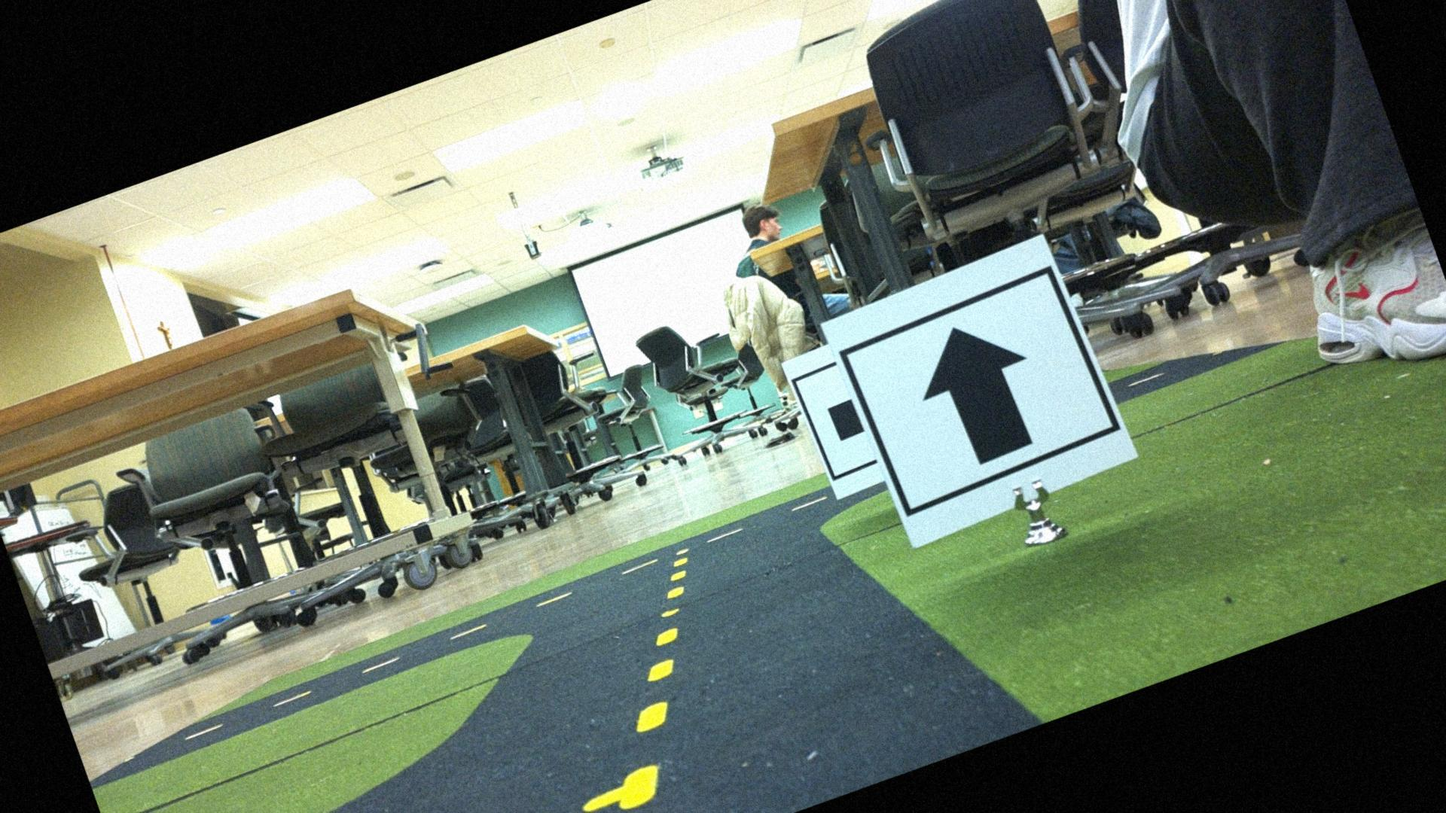gostraight: (835, 243, 1132, 538)
yellowline: (547, 547, 764, 811)
